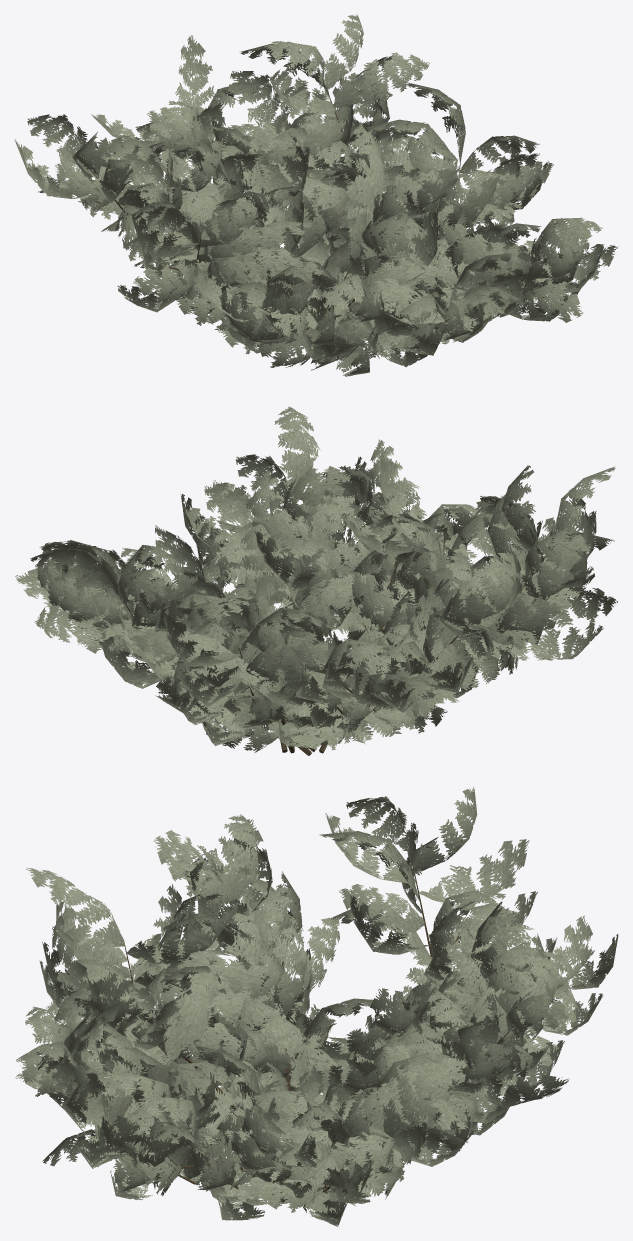
The model's file is SM_CN_Sage_B.glb.
The picture shows the model from 3 angles, top to bottom: view 1: azimuth 30°, elevation 25°; view 2: azimuth 150°, elevation 25°; view 3: azimuth 270°, elevation 25°; orthographic projection. The views are drawn at different scales.
Visible parts, largest first — view 1: SM_CN_Sage_B; view 2: SM_CN_Sage_B; view 3: SM_CN_Sage_B.
Boxes of the visible parts, x1,y1,x2,y2 form: SM_CN_Sage_B: [14, 14, 617, 376]; SM_CN_Sage_B: [15, 406, 617, 755]; SM_CN_Sage_B: [15, 787, 618, 1226].
Bounding box in the file's own units: 1.25 × 0.62 × 1.17.
2 materials, 2 textured.
